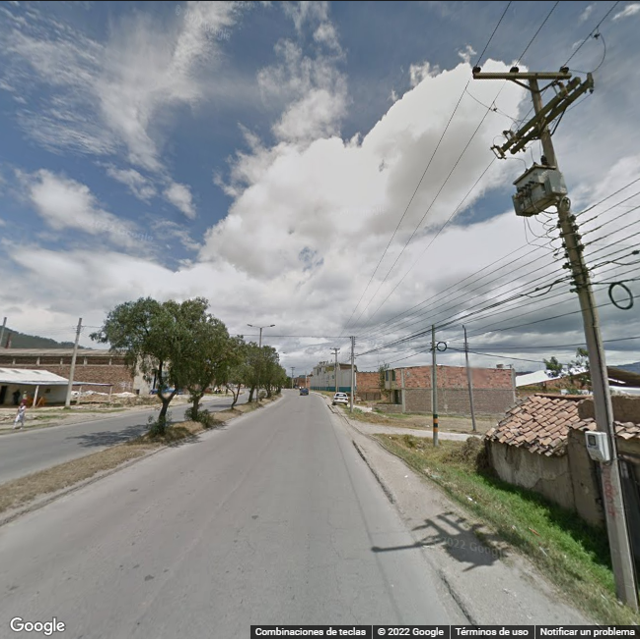D00: (330, 555, 348, 599), (346, 603, 361, 627)
